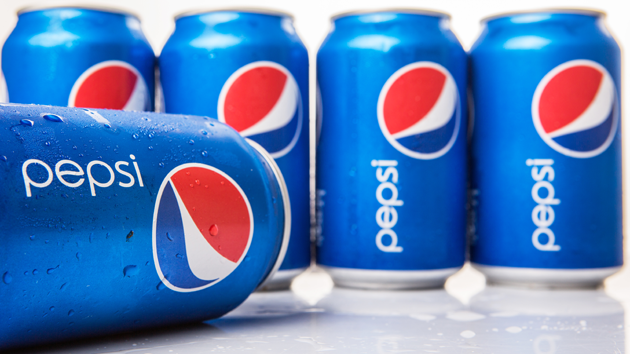pepsi: (152, 161, 253, 291), (152, 158, 250, 291), (152, 161, 250, 291), (375, 58, 461, 159), (220, 59, 302, 159), (538, 57, 618, 155), (68, 55, 150, 113)
